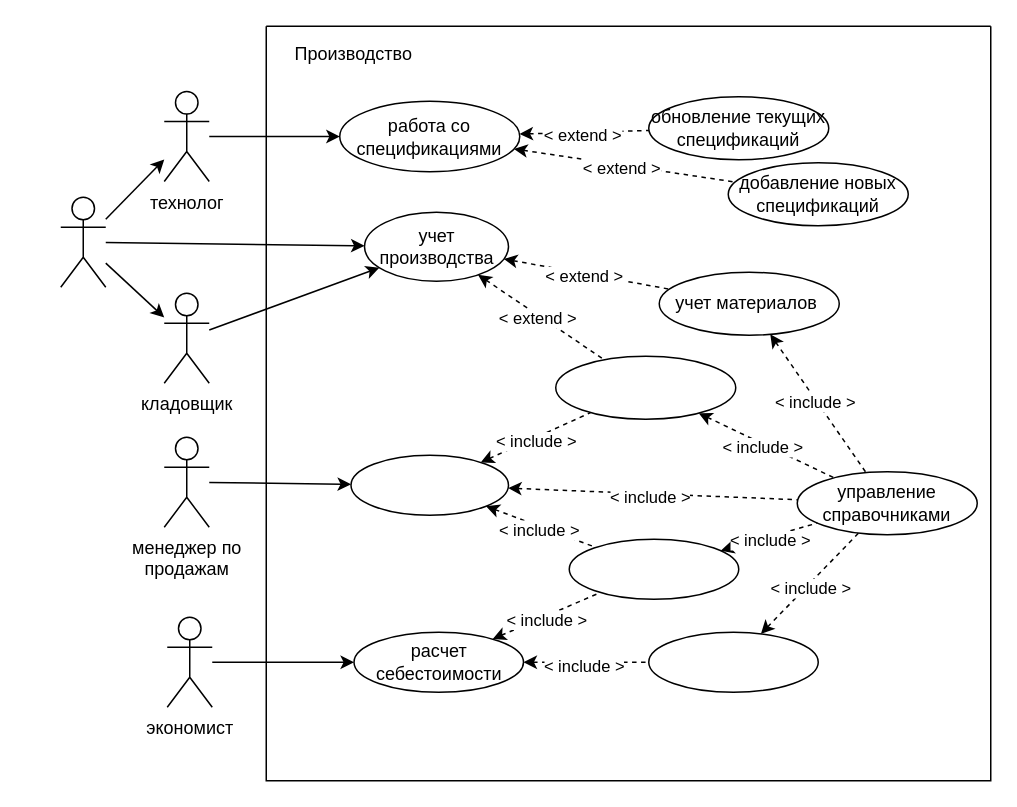
This 1017x807 diagram has some shape labels left out. Here are the shapes that lost their labels. From the top down, the box of each, then its label:
(59, 196, 106, 287): начальник производства
(554, 355, 736, 419): учет продукции
(350, 454, 508, 515): оформление заказов
(568, 538, 739, 599): расчёт стоимости продукции
(647, 631, 818, 692): расчёт затрат на производство
